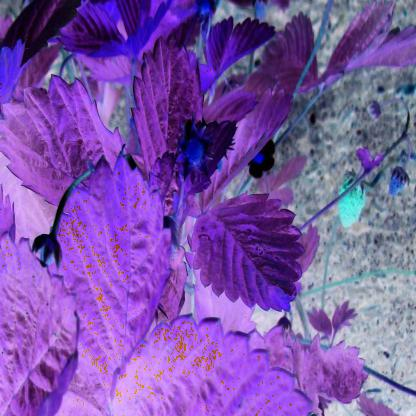strawberry leaf: (56, 152, 160, 392), (0, 77, 128, 213), (185, 193, 304, 318), (131, 31, 208, 177)
